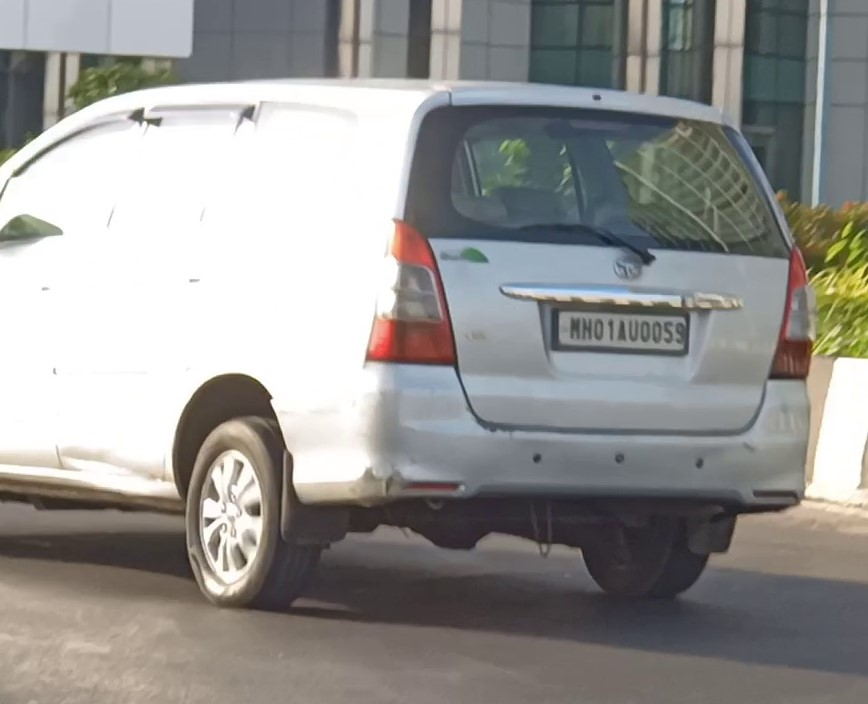MH01AU0059: (556, 311, 688, 351)
